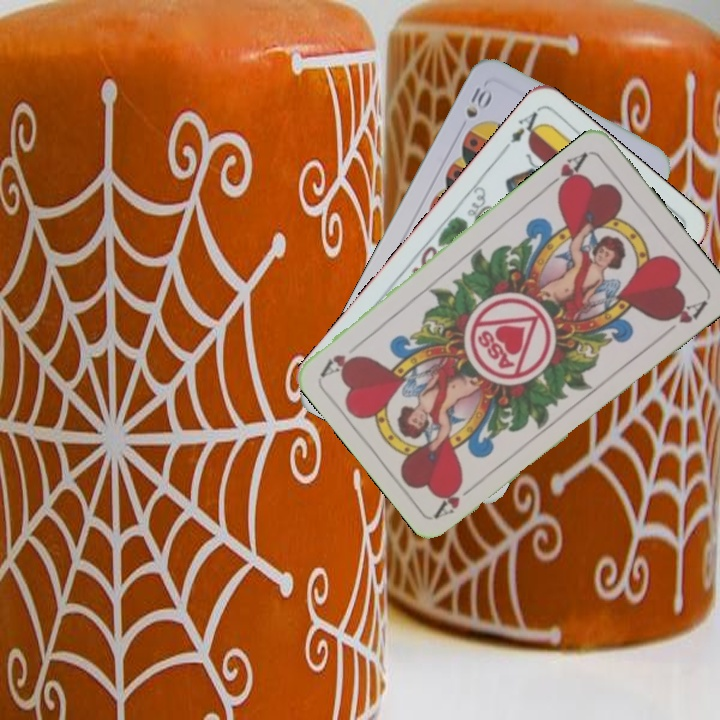EA: (498, 107, 547, 155)
HA: (542, 148, 591, 196), (431, 476, 483, 520)
S10: (461, 83, 495, 121)
